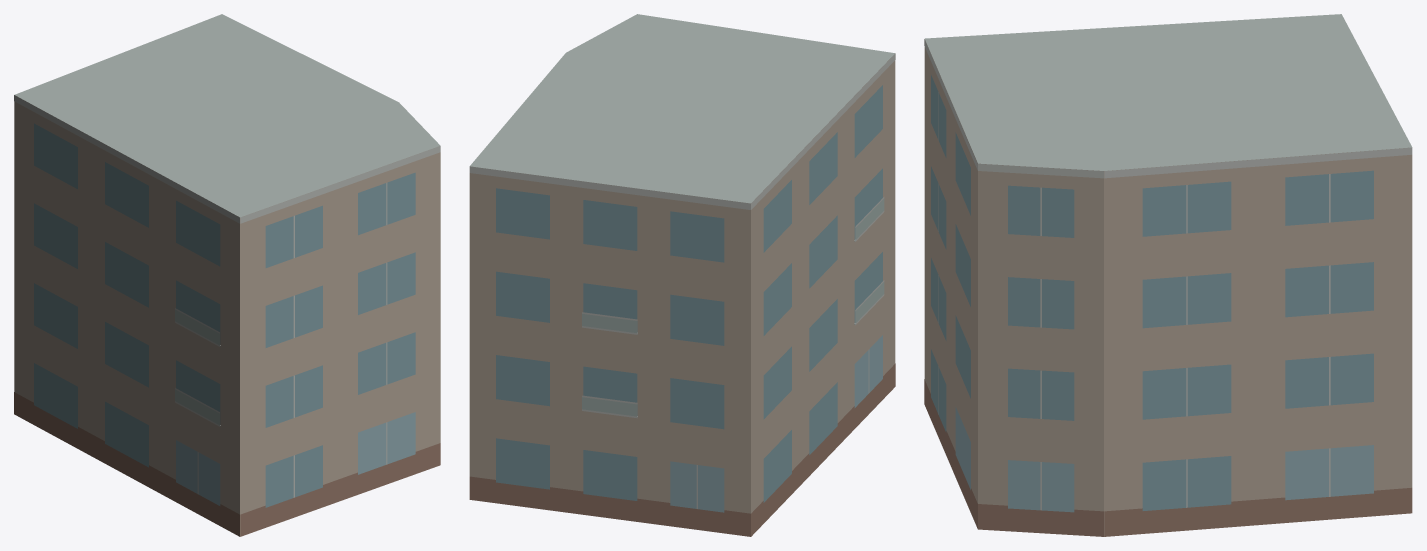
File: survey-upis-32577301.glb
3 renders of one model, left to right at view 1: azimuth 30°, elevation 25°; view 2: azimuth 150°, elevation 25°; view 3: azimuth 270°, elevation 25°, orthographic. The views are drawn at different scales.
Parts seen in each view (by area): view 1: survey-upis-32577301.tmp; view 2: survey-upis-32577301.tmp; view 3: survey-upis-32577301.tmp.
Boxes of the visible parts, x1=… form: survey-upis-32577301.tmp: x1=14, y1=14, x2=440, y2=536; survey-upis-32577301.tmp: x1=469, y1=14, x2=895, y2=536; survey-upis-32577301.tmp: x1=924, y1=14, x2=1412, y2=536.
Bounding box in the file's own units: 11.24 × 12.2 × 14.76.
